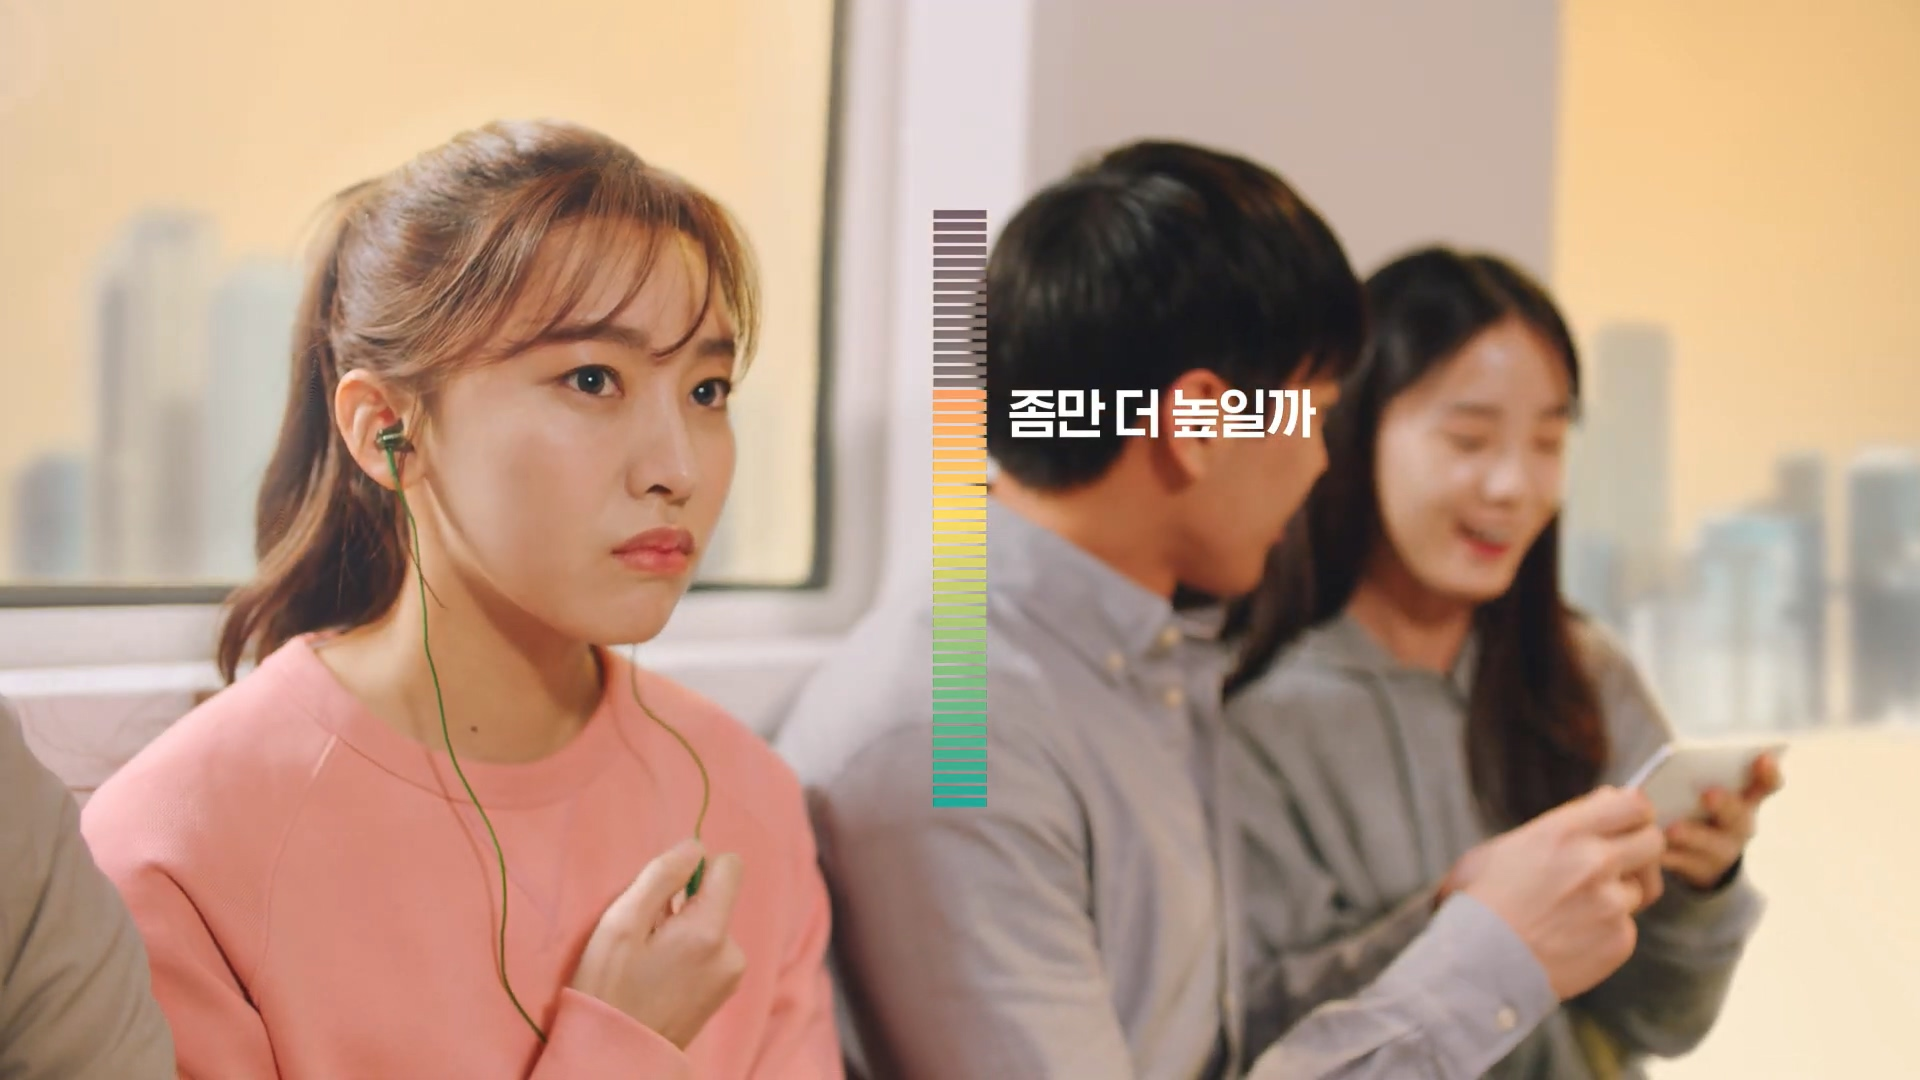earphone: (335, 368, 429, 491)
